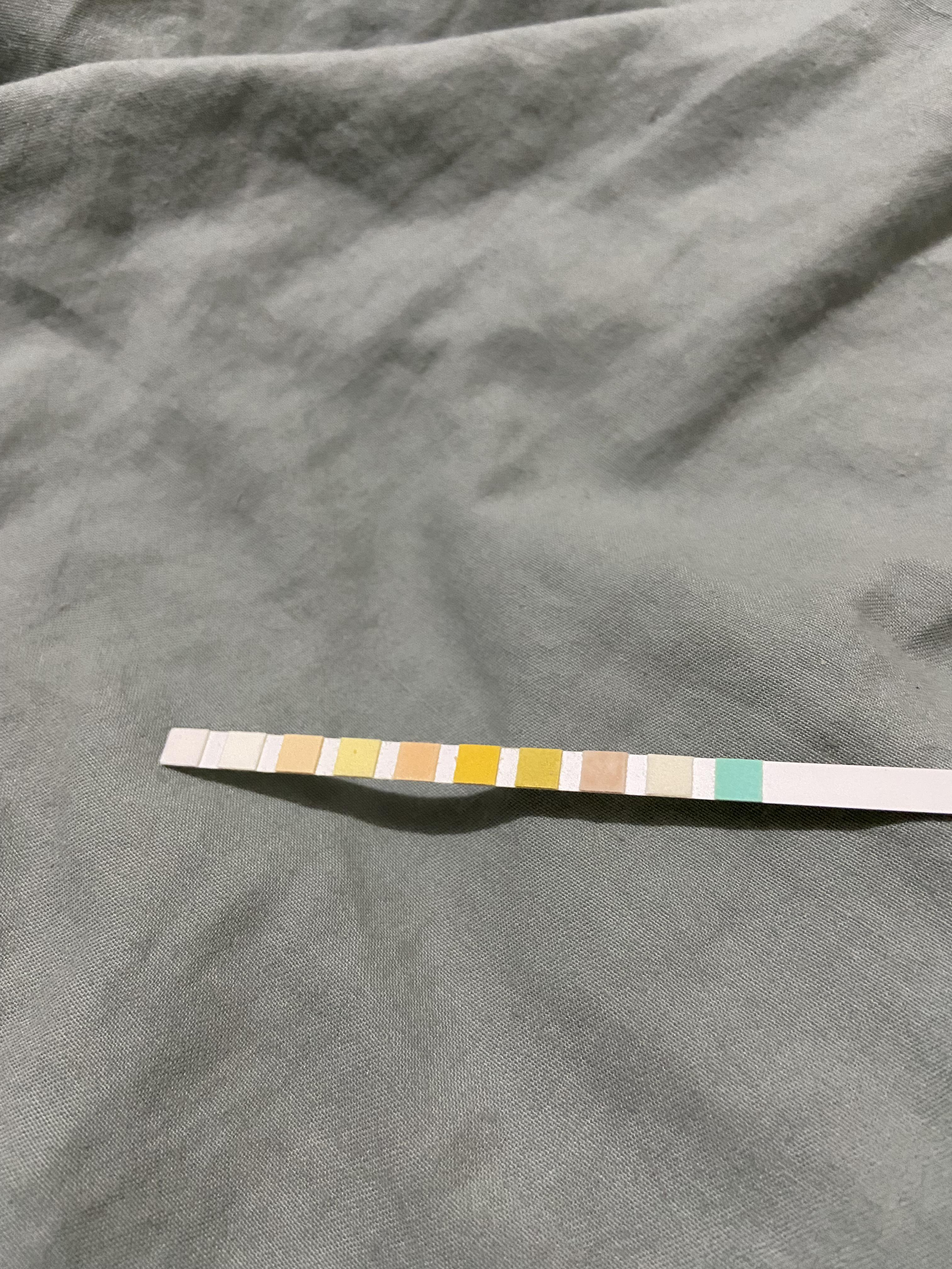Bilirubin: (648, 757, 689, 794)
Blood: (462, 745, 493, 782)
Glucose: (717, 760, 760, 799)
Ketone: (585, 753, 623, 790)
Leukocytes: (171, 731, 197, 765)
Nitrite: (230, 734, 255, 767)
Protein: (342, 739, 372, 775)
SpGravity: (521, 751, 556, 785)
Urobilinogen: (286, 735, 316, 772)
pH: (403, 743, 433, 777)
strip: (160, 727, 952, 817)
